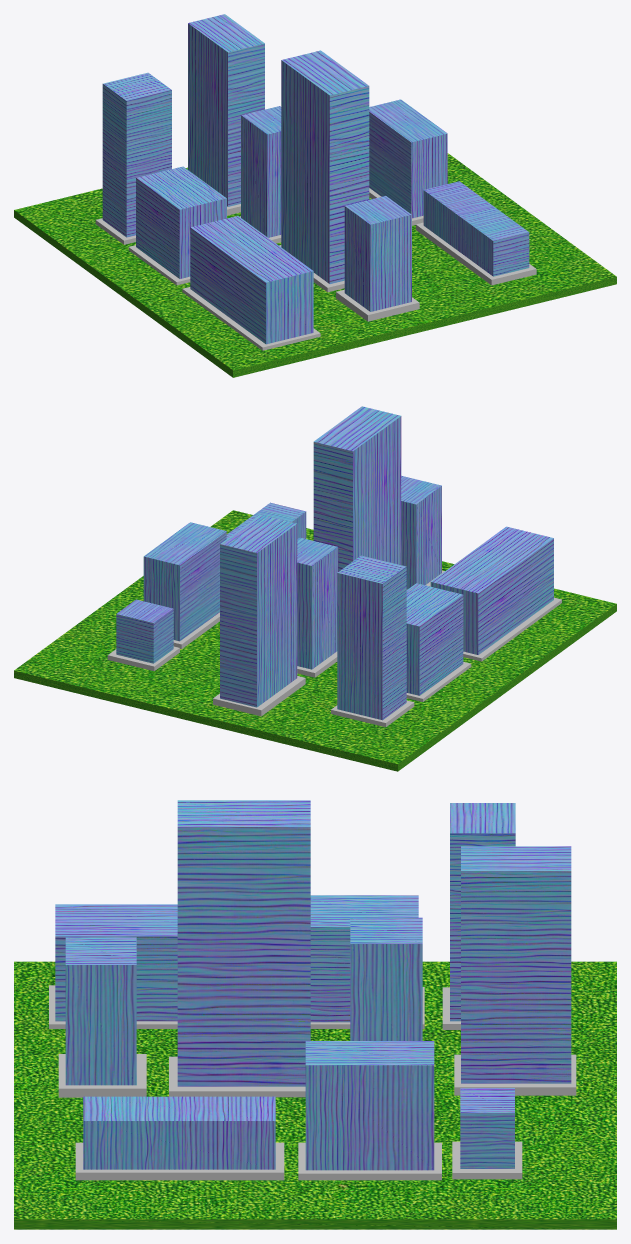
The model's file is map_try2.fbx.
The picture shows the model from 3 angles, top to bottom: view 1: azimuth 30°, elevation 25°; view 2: azimuth 150°, elevation 25°; view 3: azimuth 270°, elevation 25°; orthographic projection. The views are drawn at different scales.
Visible parts, largest first — view 1: sol, zone5_bat, zone1_bat, zone7_bat, zone3_bat, zone4_bat, zone9_bat, zone2_bat, zone8_bat, zone6_bat, zone8_emp, zone1_emp (+2 smaller); view 2: sol, zone7_bat, zone5_bat, zone3_bat, zone1_bat, zone9_bat, zone2_bat, zone6_bat, zone4_bat, zone10_bat, zone7_emp, zone8_bat (+4 smaller); view 3: sol, zone5_bat, zone7_bat, zone9_bat, zone8_bat, zone4_bat, zone6_bat, zone1_bat, zone2_bat, zone3_bat, zone10_bat, zone8_emp (+6 smaller).
Boxes of the visible parts, x1=… form: sol: x1=14, y1=153, x2=616, y2=377; zone5_bat: x1=281, y1=50, x2=369, y2=283; zone1_bat: x1=190, y1=216, x2=313, y2=344; zone7_bat: x1=188, y1=14, x2=264, y2=206; zone3_bat: x1=102, y1=72, x2=171, y2=237; zone4_bat: x1=344, y1=196, x2=411, y2=311; zone9_bat: x1=369, y1=99, x2=447, y2=218; zone2_bat: x1=136, y1=166, x2=226, y2=278; zone8_bat: x1=423, y1=181, x2=529, y2=276; zone6_bat: x1=241, y1=106, x2=281, y2=237; zone8_emp: x1=416, y1=222, x2=536, y2=285; zone1_emp: x1=182, y1=287, x2=320, y2=350; sol: x1=14, y1=510, x2=616, y2=771; zone7_bat: x1=220, y1=514, x2=297, y2=707; zone5_bat: x1=313, y1=406, x2=401, y2=571; zone3_bat: x1=337, y1=555, x2=406, y2=720; zone1_bat: x1=430, y1=526, x2=553, y2=654; zone9_bat: x1=143, y1=522, x2=226, y2=641; zone2_bat: x1=406, y1=583, x2=463, y2=695; zone6_bat: x1=297, y1=537, x2=338, y2=669; zone4_bat: x1=401, y1=475, x2=441, y2=589; zone10_bat: x1=116, y1=599, x2=173, y2=663; zone7_emp: x1=213, y1=676, x2=305, y2=716; zone8_bat: x1=226, y1=502, x2=306, y2=538; sol: x1=14, y1=961, x2=616, y2=1229; zone5_bat: x1=177, y1=800, x2=310, y2=1086; zone7_bat: x1=461, y1=846, x2=571, y2=1083; zone9_bat: x1=305, y1=1041, x2=434, y2=1170; zone8_bat: x1=83, y1=1096, x2=275, y2=1169; zone4_bat: x1=65, y1=937, x2=136, y2=1085; zone6_bat: x1=350, y1=917, x2=422, y2=1040; zone1_bat: x1=55, y1=904, x2=177, y2=1021; zone2_bat: x1=310, y1=895, x2=418, y2=1022; zone3_bat: x1=450, y1=803, x2=515, y2=1021; zone10_bat: x1=460, y1=1088, x2=514, y2=1168; zone8_emp: x1=75, y1=1142, x2=284, y2=1180.
Bounding box in the file's own units: 1610 × 805 × 1592.
